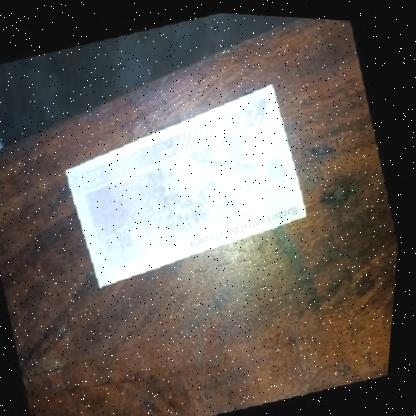two_hundred-back-vef: (48, 65, 329, 302)
